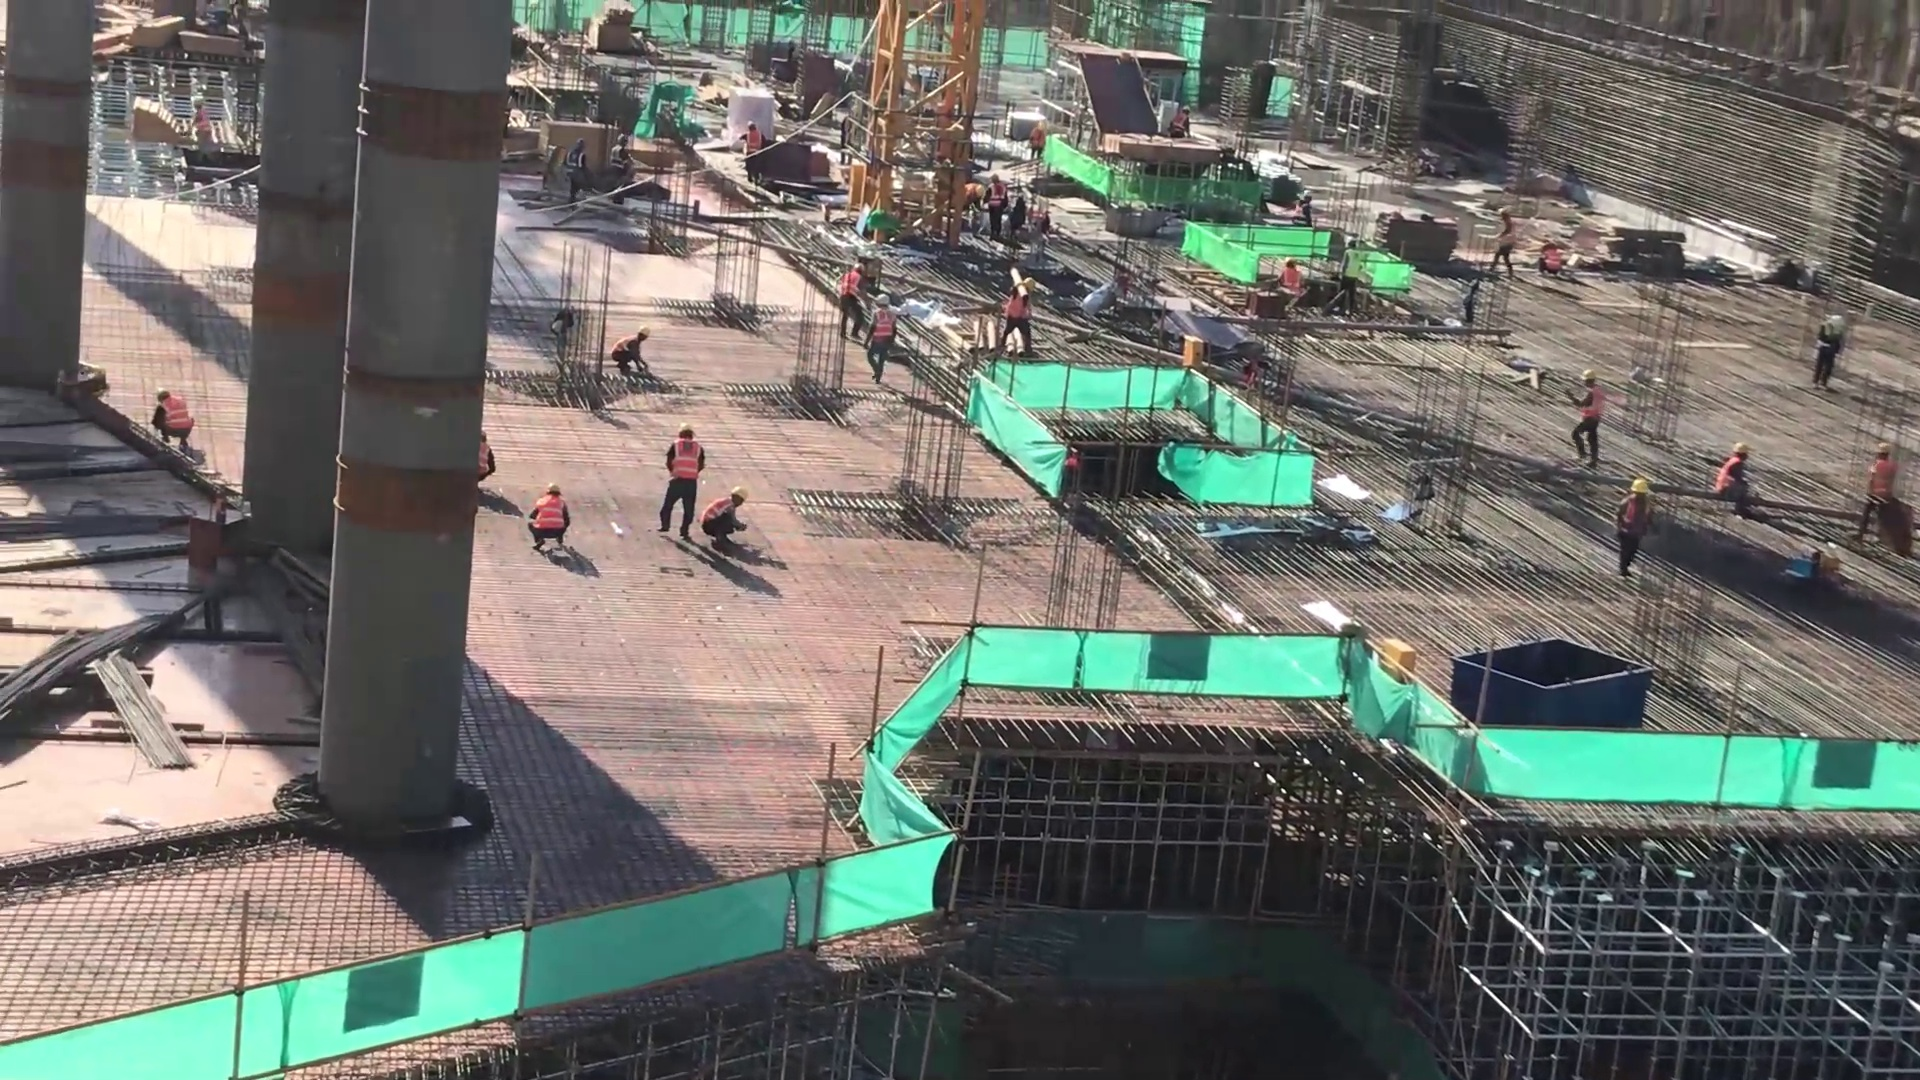helmet: (1634, 478, 1650, 494), (543, 482, 562, 497), (1827, 315, 1845, 329), (1734, 442, 1752, 454), (734, 488, 748, 502), (1582, 367, 1597, 379), (875, 295, 890, 307), (1021, 279, 1035, 292), (678, 423, 695, 433), (1878, 442, 1891, 454), (639, 325, 651, 335), (155, 389, 171, 397), (851, 263, 864, 272), (744, 120, 754, 127)
hopper: (1451, 629, 1662, 734)
person: (663, 415, 700, 550), (1802, 309, 1854, 403), (1567, 362, 1606, 472), (1615, 474, 1653, 583), (1711, 440, 1756, 526), (996, 276, 1039, 356), (528, 485, 574, 558), (863, 292, 896, 385), (609, 319, 656, 383), (837, 260, 871, 344), (706, 482, 746, 552), (731, 116, 767, 189), (1488, 203, 1519, 288), (154, 395, 193, 456), (561, 135, 590, 212), (1337, 237, 1363, 319), (181, 93, 209, 162), (607, 131, 633, 196), (1280, 256, 1305, 321), (1532, 234, 1562, 286), (984, 175, 1008, 237), (1167, 104, 1197, 146), (1027, 118, 1051, 167), (478, 424, 493, 493), (1293, 192, 1317, 237)
rebar: (11, 601, 185, 768), (94, 651, 193, 783)
vest: (1616, 497, 1651, 533), (1715, 456, 1745, 496), (673, 441, 699, 476), (163, 401, 192, 433), (535, 500, 565, 531), (708, 494, 730, 525), (872, 312, 893, 344), (1584, 392, 1604, 418), (1011, 291, 1028, 322), (840, 272, 860, 297), (1541, 250, 1562, 271), (1346, 250, 1361, 279), (989, 182, 1005, 209), (1285, 269, 1299, 294)
